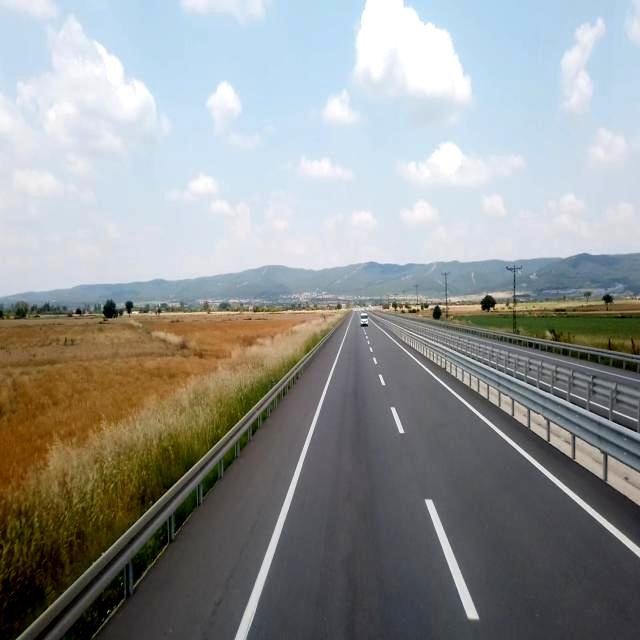road: (94, 313, 639, 639)
